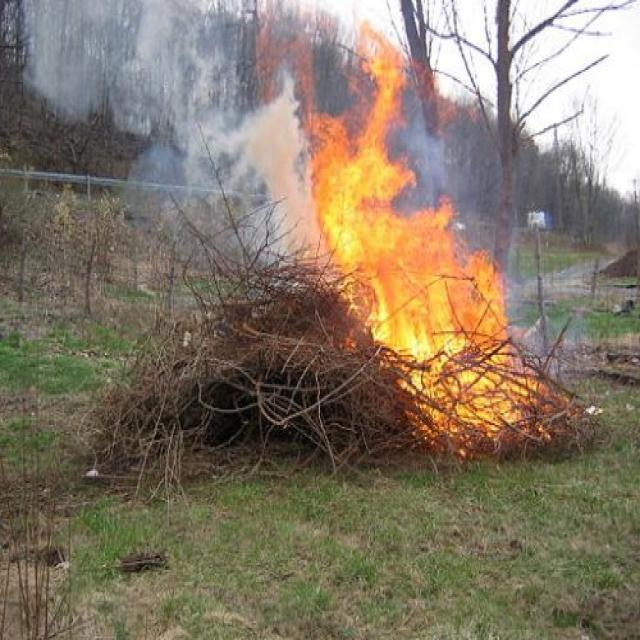Fire: (297, 14, 540, 468)
Smoke: (30, 1, 318, 275)
